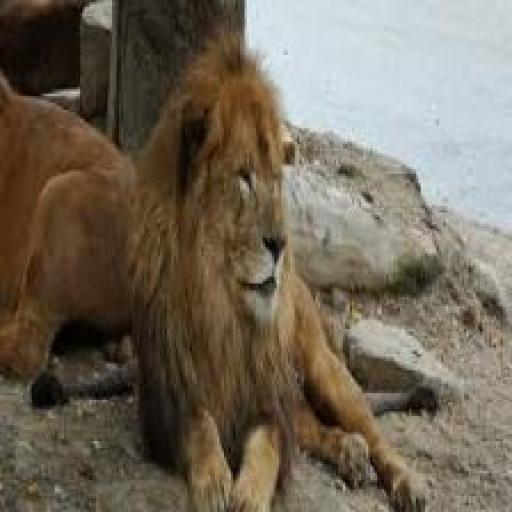lion: (116, 23, 454, 505)
